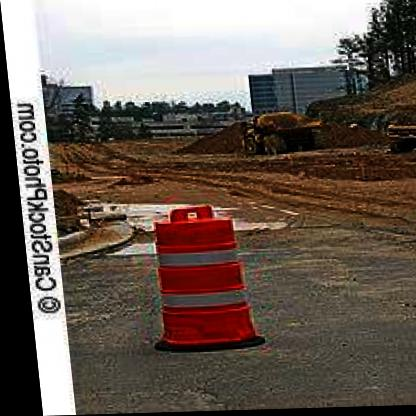obstacle: (134, 205, 262, 351)
